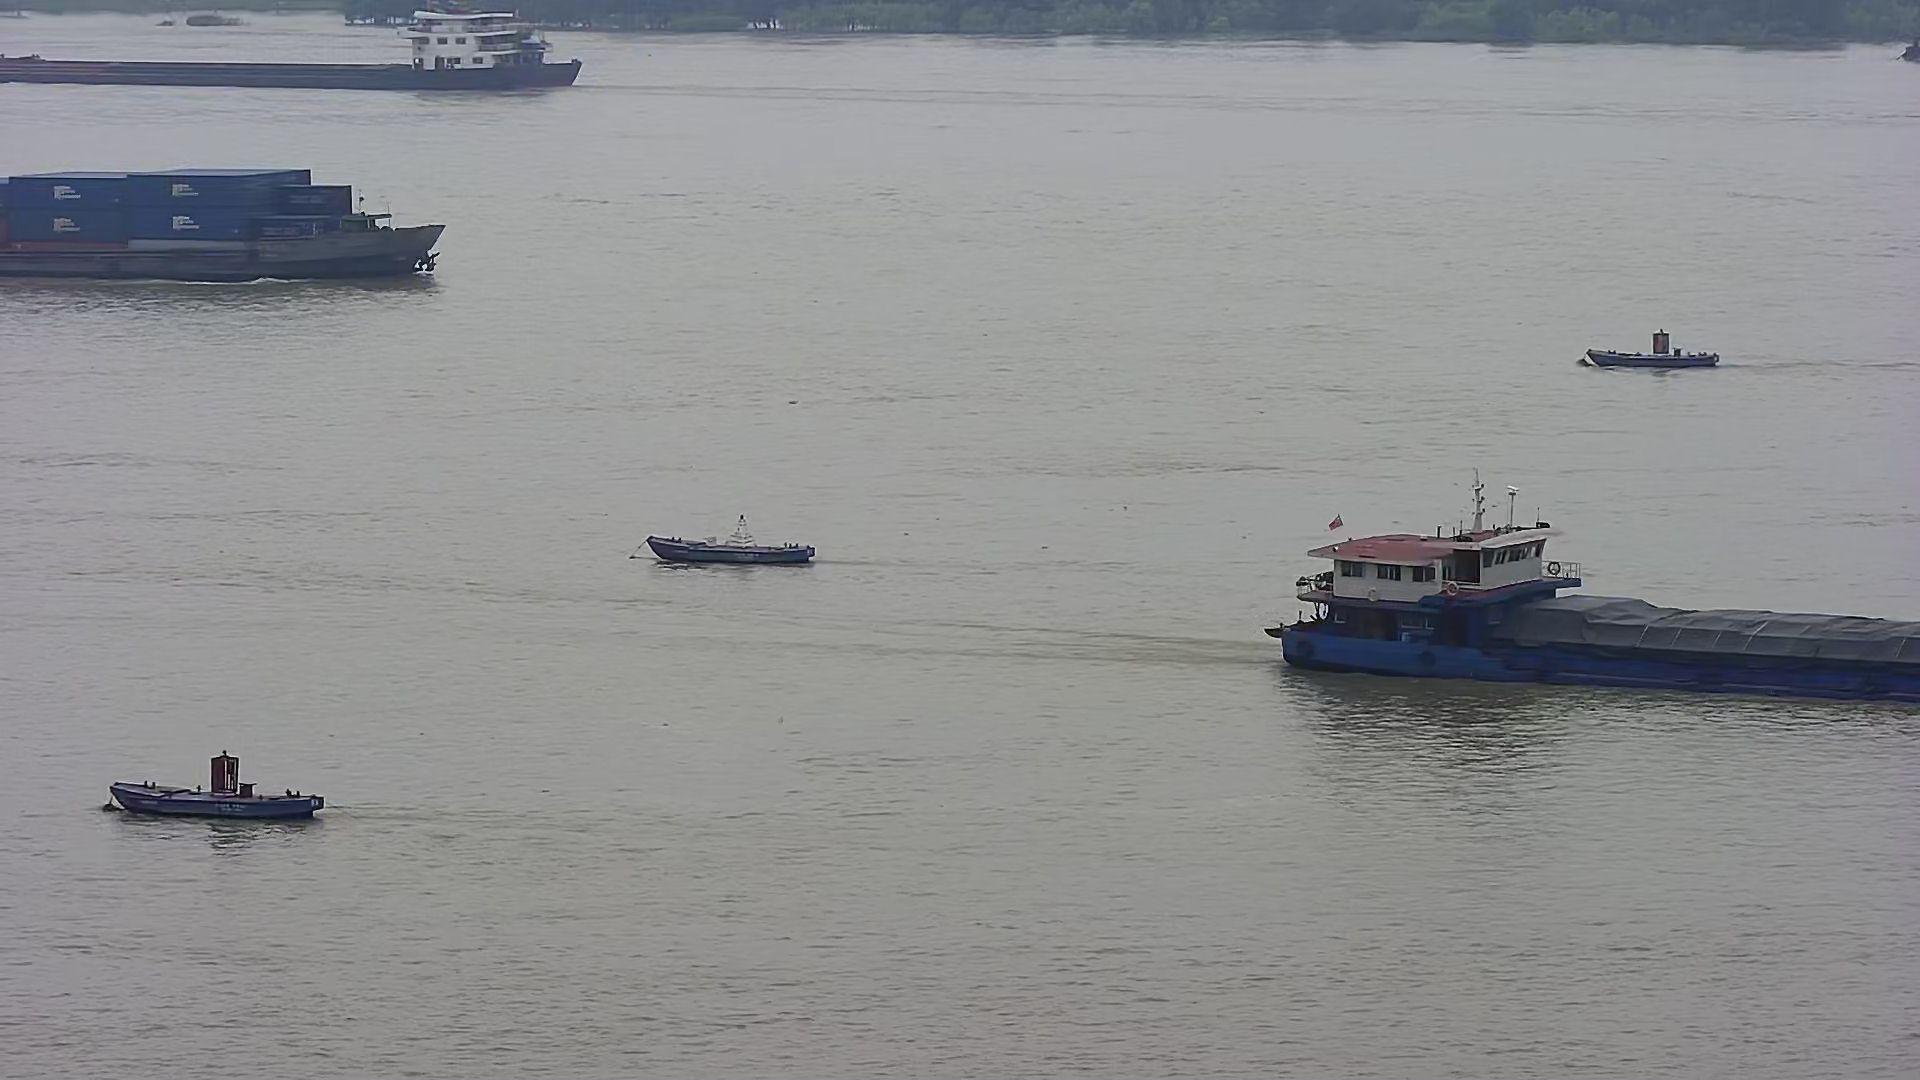boat: (102, 749, 327, 823), (626, 509, 823, 574), (1582, 326, 1730, 375)
ship: (1274, 476, 1920, 708), (1, 160, 448, 287), (1, 9, 578, 88)
